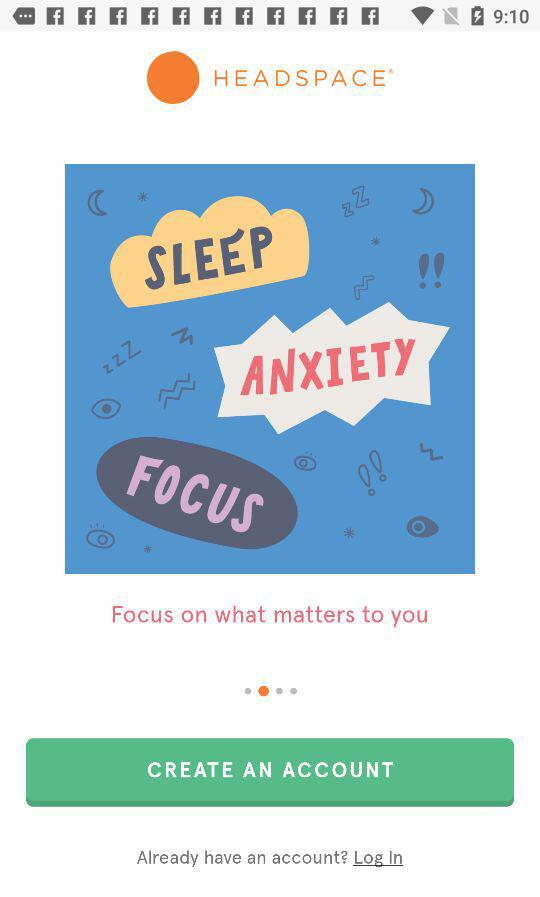Image: (65, 164, 476, 575), (147, 51, 388, 106)
PageIndicator: (244, 685, 299, 697)
Text: (113, 604, 429, 629), (137, 849, 404, 868)
TextButton: (26, 737, 515, 808)
UpperTaskBar: (1, 1, 540, 33)
